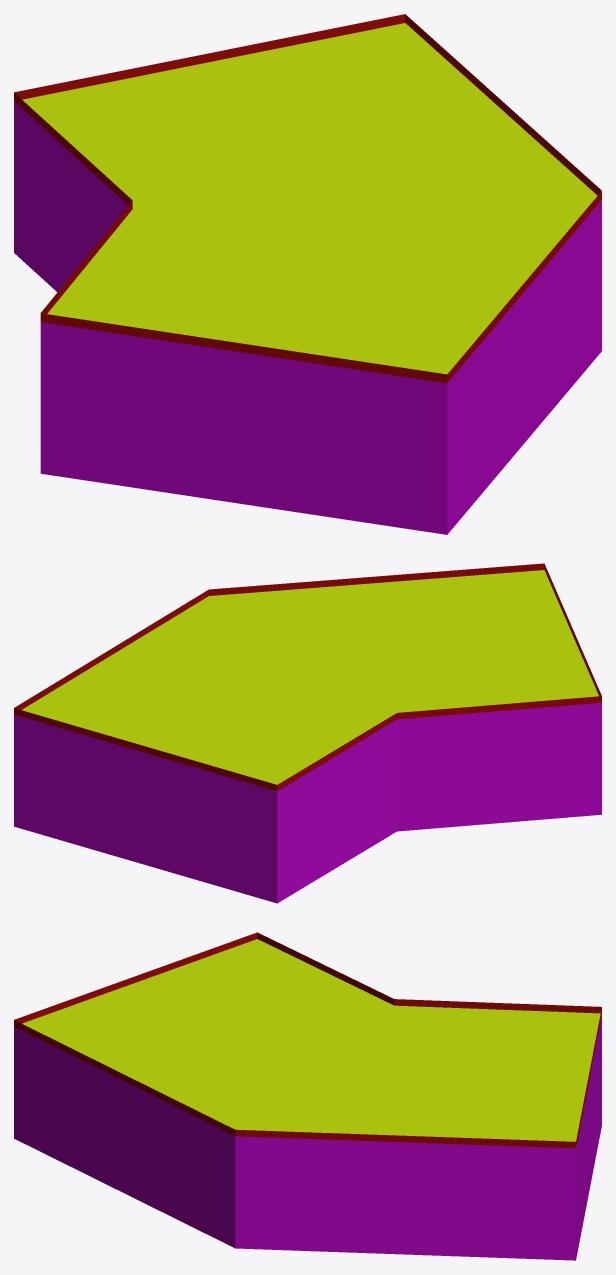
File: bgj_422.glb
The picture shows the model from 3 angles, top to bottom: view 1: azimuth 30°, elevation 25°; view 2: azimuth 150°, elevation 25°; view 3: azimuth 270°, elevation 25°; orthographic projection. The views are drawn at different scales.
Parts seen in each view (by area): view 1: bgj_422; view 2: bgj_422; view 3: bgj_422.
Part boxes in pixels (box(x1,y1,x2,y2)): bgj_422: box(14, 14, 601, 534); bgj_422: box(14, 563, 601, 903); bgj_422: box(14, 932, 601, 1260).
Bounding box in the file's own units: 23.83 × 6.3 × 28.28.
